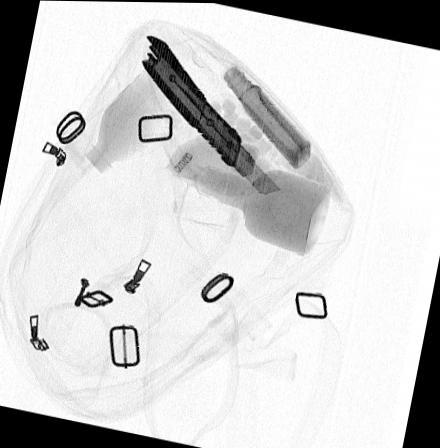Knife: (141, 33, 283, 193)
